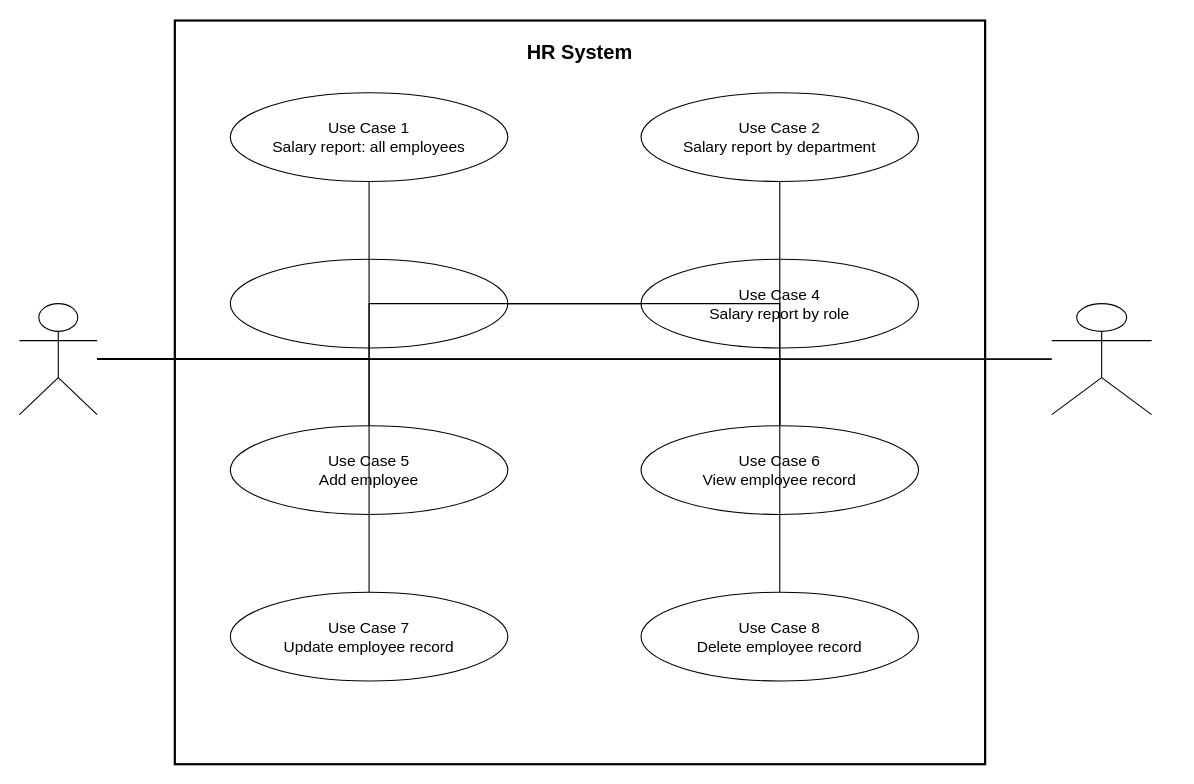
Some shapes in this 1194 by 784 pixel diagram are drawn without their labels. The box of each missing label's shape, as (x1, y1, x2, y2) in pixels:
Department Manager: (1051, 302, 1152, 415)
HR Advisor: (18, 302, 97, 415)
Use Case 3 Salary report for manager's own department: (229, 258, 508, 348)
